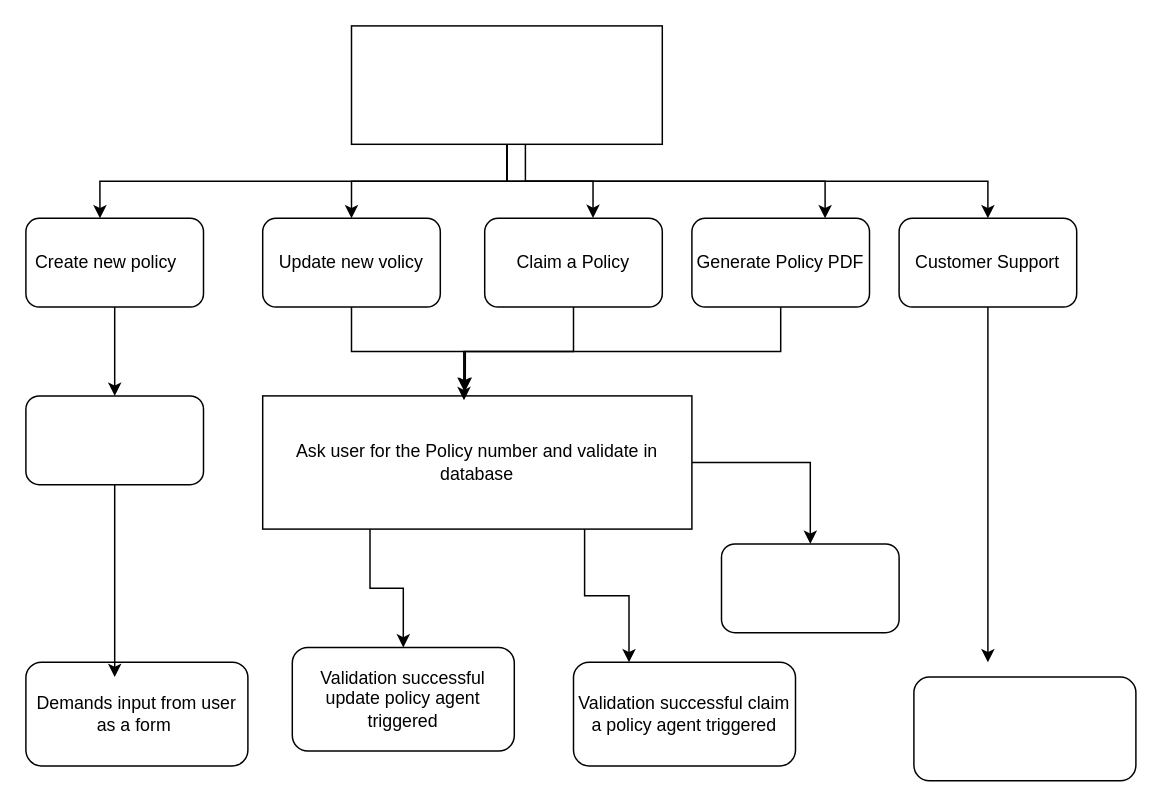
Some shapes in this 1162 by 807 pixel diagram are drawn without their labels. The shapes that lost their labels are listed below. From the top down, each one's centre as x and y in pixels, then its label:
At point (506, 84): "Ask the user for the actions".
At point (114, 439): "Ask for the Details and Validation Agent will start for new policy".
At point (809, 587): "Generate policy in PDF agent starts".
At point (1024, 728): "Human Intervention Needed".
